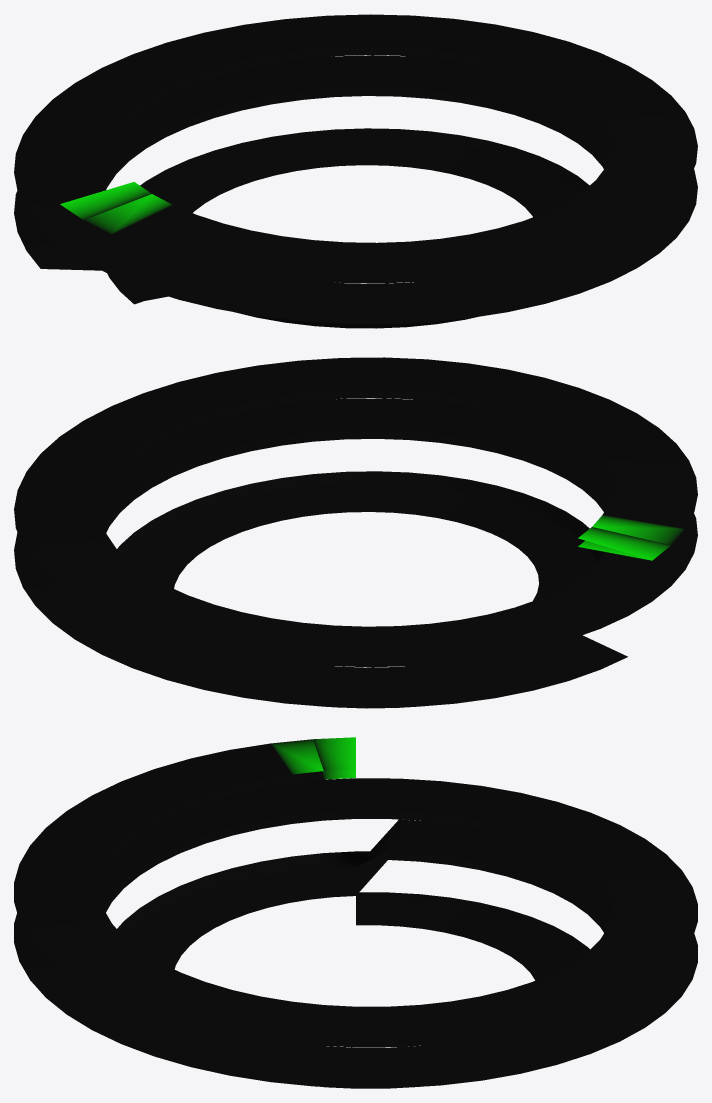
Rendered from spiker.fbx.
3 renders of one model, top to bottom at view 1: azimuth 30°, elevation 25°; view 2: azimuth 150°, elevation 25°; view 3: azimuth 270°, elevation 25°, orthographic.
Visible parts, largest first — view 1: pHelix1; view 2: pHelix1; view 3: pHelix1.
Boxes of the visible parts, x1=… form: pHelix1: x1=14, y1=14, x2=697, y2=328; pHelix1: x1=14, y1=357, x2=697, y2=708; pHelix1: x1=14, y1=737, x2=697, y2=1088.
Size of the model in its own units: 1.05 by 0.2121 by 1.05.
